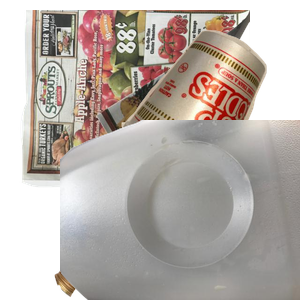glass: (52, 147, 292, 300)
paper: (18, 10, 258, 190)
plastic: (60, 120, 300, 300)
trash: (119, 28, 300, 207)
